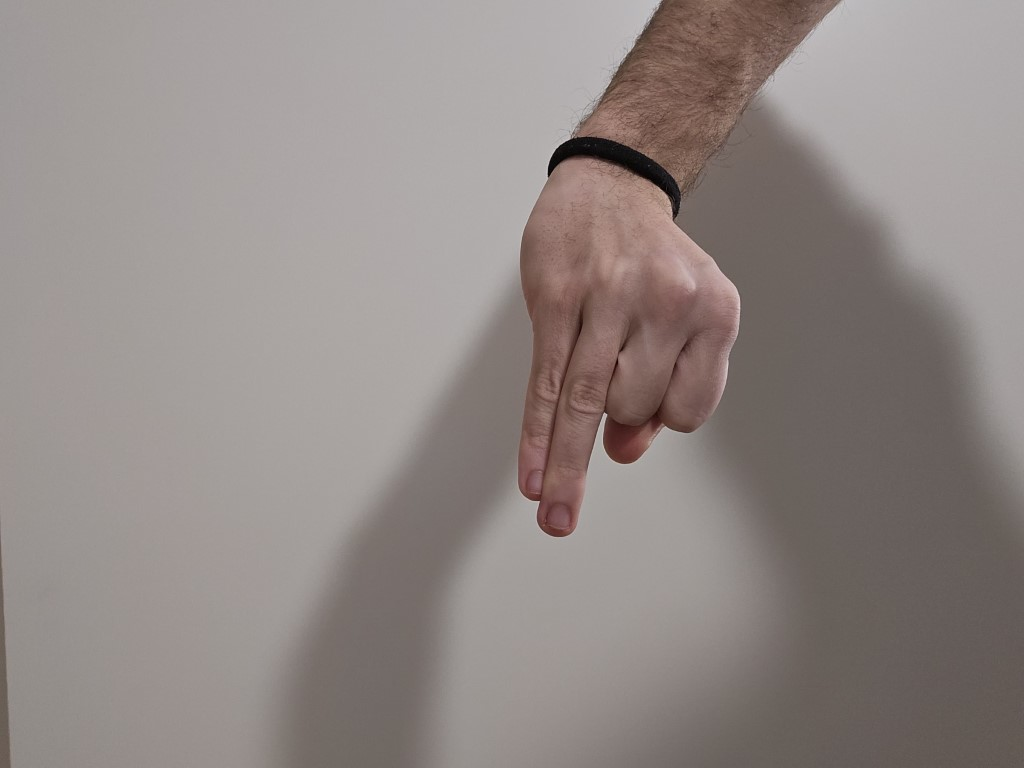n: (495, 165, 761, 567)
